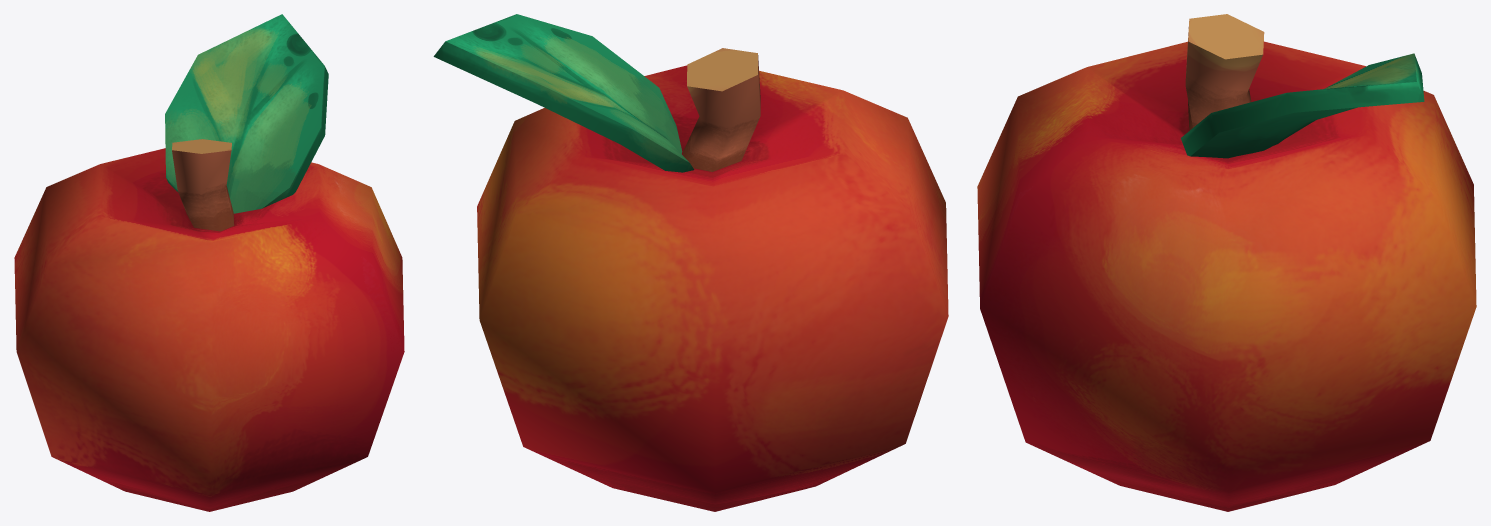
File: 0973e5c1-5437-420e-9e00-732bb402aa15_apple.glb
3 renders of one model, left to right at view 1: azimuth 30°, elevation 25°; view 2: azimuth 150°, elevation 25°; view 3: azimuth 270°, elevation 25°, orthographic. The views are drawn at different scales.
Parts seen in each view (by area): view 1: Plane.001; view 2: Plane.001; view 3: Plane.001.
Part boxes in pixels (x1,y1,x2,y2): Plane.001: [14, 14, 404, 511]; Plane.001: [433, 14, 948, 511]; Plane.001: [977, 14, 1476, 511].
Bounding box in the file's own units: 245 × 222 × 213.
Materials: 1 (1 with a texture image).
